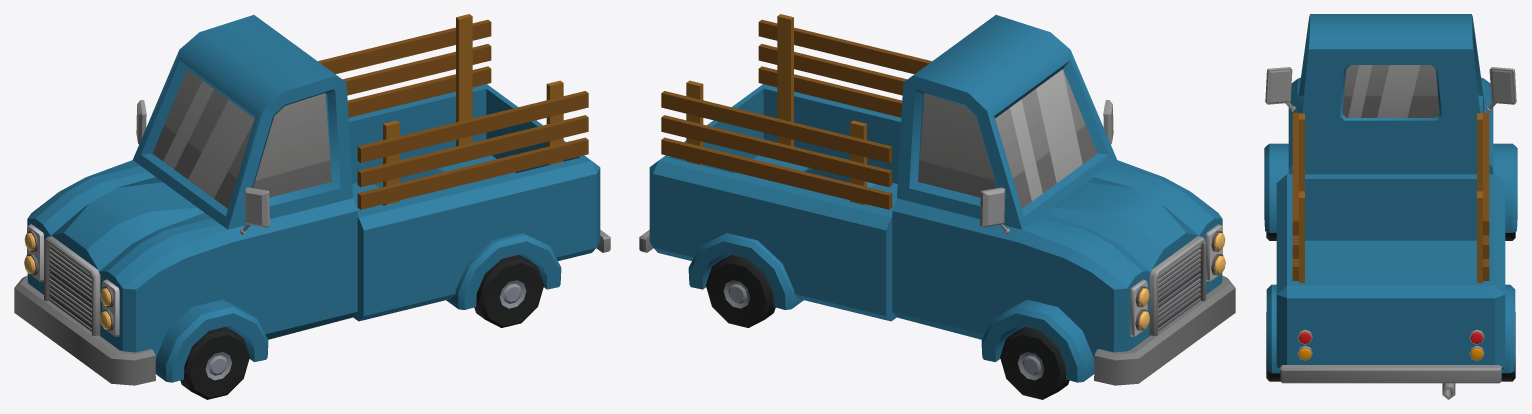
File: Car_12_A.gltf
The picture shows the model from 3 angles, left to right: view 1: azimuth 30°, elevation 25°; view 2: azimuth 150°, elevation 25°; view 3: azimuth 270°, elevation 25°; orthographic projection. The views are drawn at different scales.
Parts seen in each view (by area): view 1: Car_12_A, RL, FL; view 2: Car_12_A, RR, FR; view 3: Car_12_A.
Part boxes in pixels (left/top/right/bottom): Car_12_A: left=14, top=14, right=610, bottom=385; RL: left=474, top=255, right=544, bottom=327; FL: left=180, top=327, right=249, bottom=399; Car_12_A: left=639, top=14, right=1235, bottom=385; RR: left=705, top=255, right=775, bottom=327; FR: left=1000, top=327, right=1069, bottom=399; Car_12_A: left=1264, top=14, right=1517, bottom=399.
Size of the model in its own units: 3.82 by 2.01 by 1.73.
4 materials, 4 textured.
